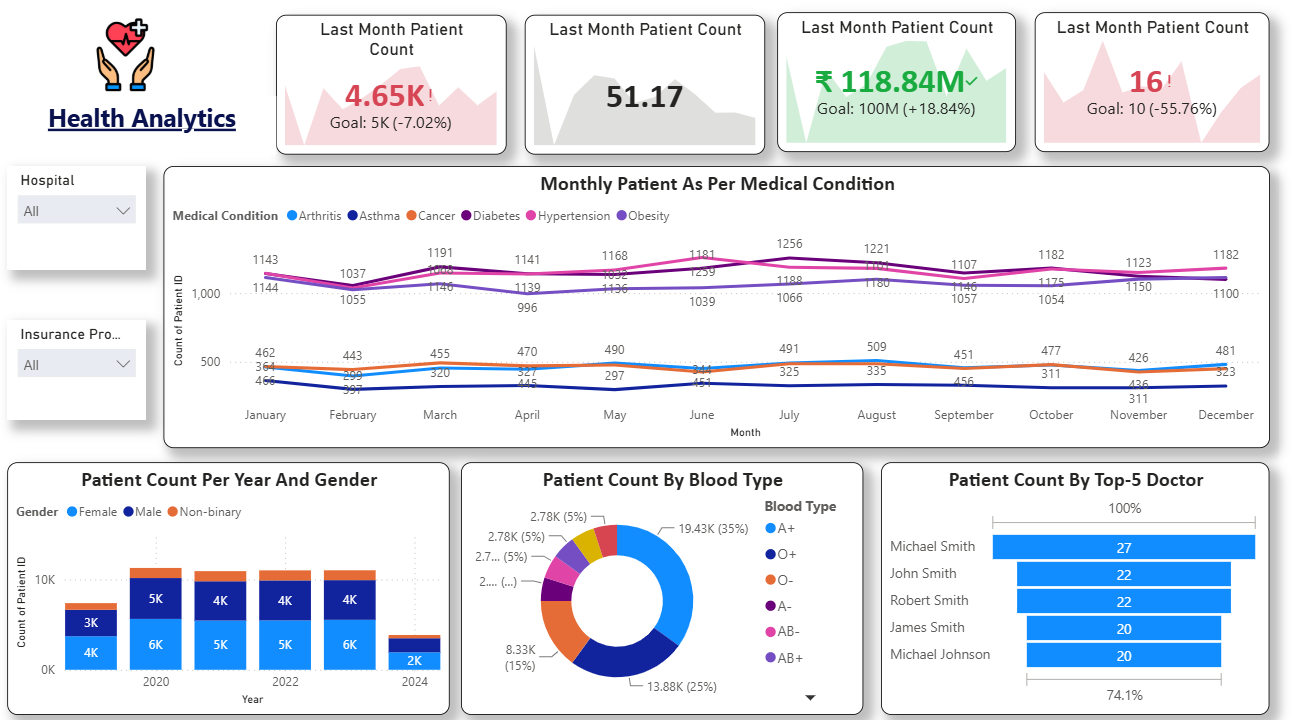

This screenshot's page, from the dashboard's own definition file:
{"tool":"powerbi","page":{"name":"Page 1","canvas":[1280,720],"ordinal":0},"visuals":[{"type":"kpi","title":"Last Month Patient Count ","fields":{"Indicator":["Count(Data.Patient ID)"],"TrendLine":["Data.Date of Admission.Variation.Date Hierarchy.Month"],"Goal":["Data.Monthl PC Target"]},"box":[279.4,22.8,225.2,136.8],"z":0},{"type":"kpi","title":"Last Month Patient Count ","fields":{"Indicator":["Avg(Data.Age)"],"TrendLine":["Data.Date of Admission.Variation.Date Hierarchy.Month"]},"box":[521.7,22.8,235.2,136.8],"z":1000},{"type":"kpi","title":"Last Month Patient Count ","fields":{"TrendLine":["Data.Date of Admission.Variation.Date Hierarchy.Month"],"Goal":["Data.Billing Target"],"Indicator":["Sum(Data.Billing Amount)"]},"box":[774,22.8,233.8,136.8],"z":2000},{"type":"kpi","title":"Last Month Patient Count ","fields":{"TrendLine":["Data.Date of Admission.Variation.Date Hierarchy.Month"],"Indicator":["Avg(Data.Stay Duration)"],"Goal":["Avg(Data.Duratin Target)"]},"box":[1020.6,21.4,243.7,131.1],"z":3000},{"type":"lineChart","title":"Monthly Patient As Per Medical Condition","fields":{"Category":["Data.Date of Admission.Variation.Date Hierarchy.Month"],"Y":["CountNonNull(Data.Patient ID)"],"Series":["Data.Medical Condition"]},"box":[17.1,171,1234.4,276.5],"z":4000},{"type":"columnChart","title":"Patient Count Per Year And Gender","fields":{"Y":["Count(Data.Patient ID)"],"Category":["Data.Date of Admission.Variation.Date Hierarchy.Year"],"Series":["Data.Gender"]},"box":[17.1,461.8,433.3,258],"z":5000},{"type":"donutChart","title":"Patient Count With Blood Type","fields":{"Y":["Count(Data.Patient ID)"],"Category":["Data.Blood Type"]},"box":[464.7,461.8,393.4,258],"z":6000},{"type":"funnel","title":"Patient Count With Blood Type","fields":{"Y":["Count(Data.Patient ID)"],"Category":["Data.Doctor"]},"box":[870.9,461.8,380.6,258],"z":7000},{"type":"slicer","fields":{"Values":["Data.Hospital"]},"box":[17.1,22.8,249.4,68.4],"z":7001},{"type":"slicer","fields":{"Values":["Data.Insurance Provider"]},"box":[17.1,91.2,249.4,68.4],"z":7002}]}

Visuals, with their boxes in screenshot pixels (x1, y1, x2, y2), scaled from the page's 1280x720 canvas onto the 1292x720 screenshot:
"Last Month Patient Count " kpi: {"x1": 282, "y1": 23, "x2": 509, "y2": 160}
"Last Month Patient Count " kpi: {"x1": 527, "y1": 23, "x2": 764, "y2": 160}
"Last Month Patient Count " kpi: {"x1": 781, "y1": 23, "x2": 1017, "y2": 160}
"Last Month Patient Count " kpi: {"x1": 1030, "y1": 21, "x2": 1276, "y2": 152}
"Monthly Patient As Per Medical Condition" lineChart: {"x1": 17, "y1": 171, "x2": 1263, "y2": 448}
"Patient Count Per Year And Gender" columnChart: {"x1": 17, "y1": 462, "x2": 455, "y2": 719}
"Patient Count With Blood Type" donutChart: {"x1": 469, "y1": 462, "x2": 866, "y2": 719}
"Patient Count With Blood Type" funnel: {"x1": 879, "y1": 462, "x2": 1263, "y2": 719}
slicer - Data.Hospital: {"x1": 17, "y1": 23, "x2": 269, "y2": 91}
slicer - Data.Insurance Provider: {"x1": 17, "y1": 91, "x2": 269, "y2": 160}
